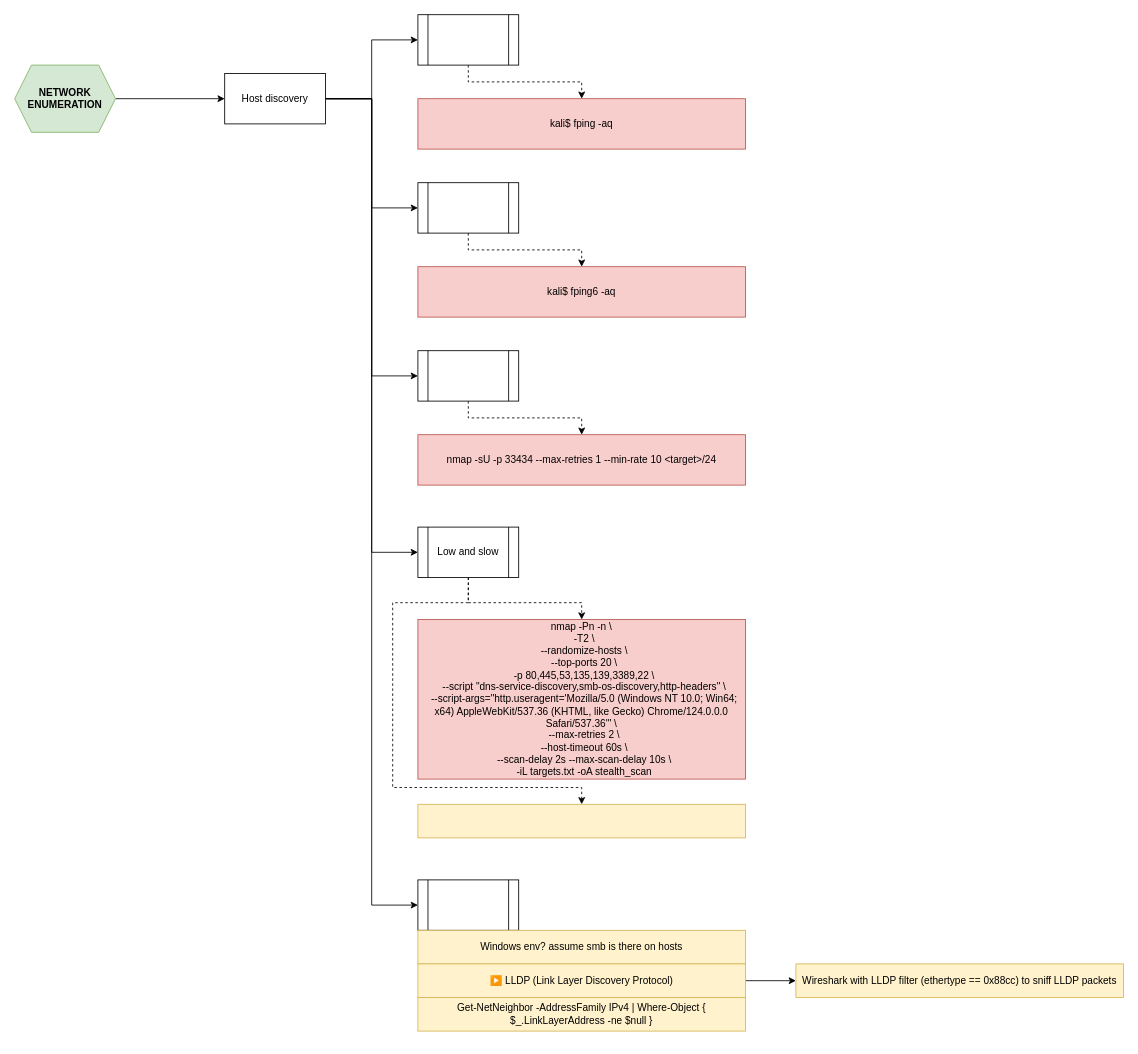
The diagram is 1138 pixels wide and 1054 high, and some of its shapes have lost their labels. Each missing label, with the box of its shape:
Check custom scripts: (417, 803, 746, 838)
ICMP PING ipv4: (417, 14, 519, 65)
ICMP PING ipv6: (417, 182, 519, 233)
Making assumptions: (417, 879, 519, 930)
UDP: (417, 350, 519, 401)
